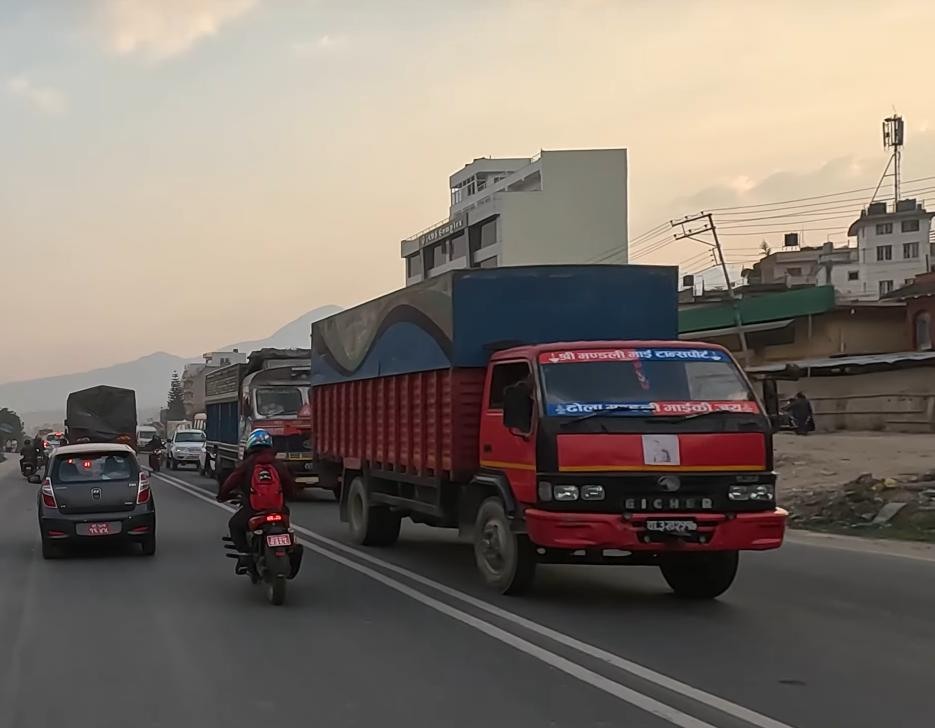bike: (216, 490, 303, 605)
car: (35, 441, 156, 559)
truck: (307, 263, 812, 599), (197, 339, 343, 496)
